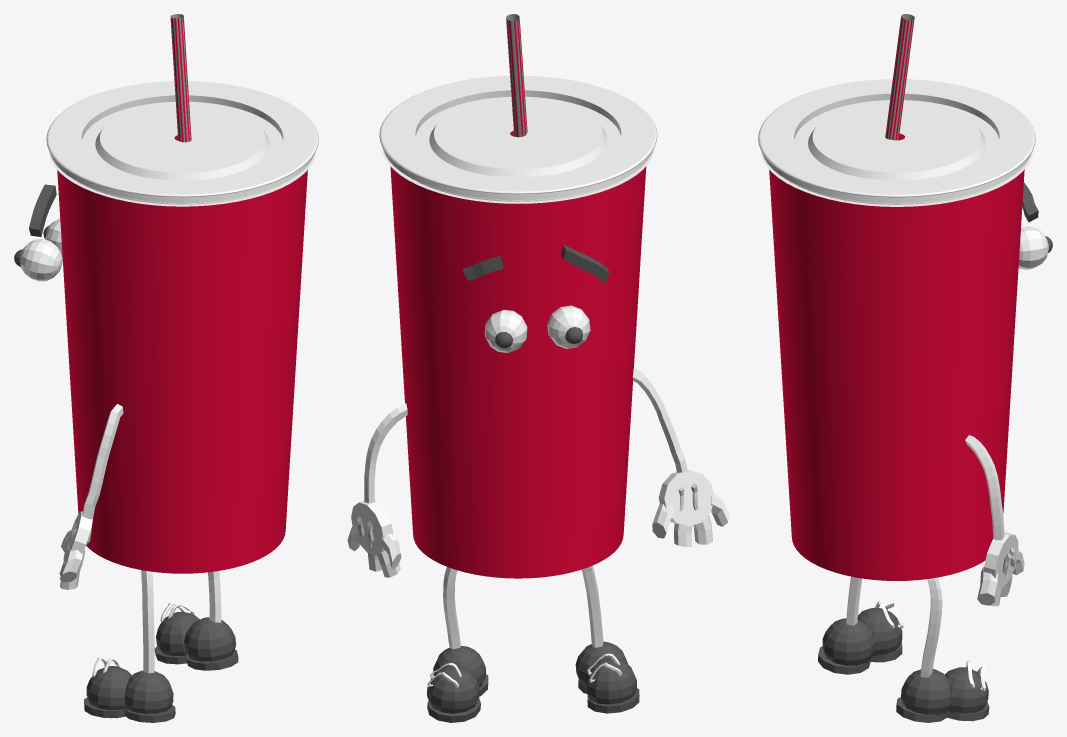
The model's file is coke man.fbx.
The picture shows the model from 3 angles, left to right: view 1: azimuth 30°, elevation 25°; view 2: azimuth 150°, elevation 25°; view 3: azimuth 270°, elevation 25°; orthographic projection. The views are drawn at different scales.
Visible parts, largest first — view 1: Cup, Lid, RightLeg, LeftLeg, RightArm, Straw, RightEye, RightEyebrow; view 2: Cup, Lid, RightArm, LeftLeg, RightLeg, LeftArm, Straw, LeftEye, RightEye, RightEyebrow; view 3: Cup, Lid, LeftLeg, RightLeg, LeftArm, Straw, LeftEye.
Boxes of the visible parts, left/top/right/bottom form: Cup: left=57, top=135, right=307, bottom=573; Lid: left=46, top=81, right=318, bottom=206; RightLeg: left=84, top=570, right=175, bottom=722; LeftLeg: left=154, top=571, right=238, bottom=670; RightArm: left=59, top=404, right=123, bottom=589; Straw: left=170, top=14, right=191, bottom=142; RightEye: left=14, top=239, right=62, bottom=281; RightEyebrow: left=29, top=184, right=56, bottom=236; Cup: left=390, top=131, right=646, bottom=578; Lid: left=379, top=76, right=657, bottom=203; RightArm: left=632, top=368, right=729, bottom=547; LeftLeg: left=427, top=567, right=488, bottom=722; RightLeg: left=575, top=565, right=639, bottom=713; LeftArm: left=347, top=403, right=407, bottom=577; Straw: left=506, top=14, right=527, bottom=137; LeftEye: left=484, top=309, right=527, bottom=352; RightEye: left=547, top=305, right=590, bottom=348; RightEyebrow: left=561, top=244, right=609, bottom=283; Cup: left=769, top=133, right=1024, bottom=580; Lid: left=758, top=79, right=1035, bottom=206; LeftLeg: left=896, top=577, right=989, bottom=722; RightLeg: left=818, top=576, right=903, bottom=674; LeftArm: left=965, top=435, right=1024, bottom=606; Straw: left=885, top=14, right=914, bottom=140; LeftEye: left=1018, top=226, right=1052, bottom=269.
Size of the model in its own units: 7.48 by 16.91 by 6.59.
